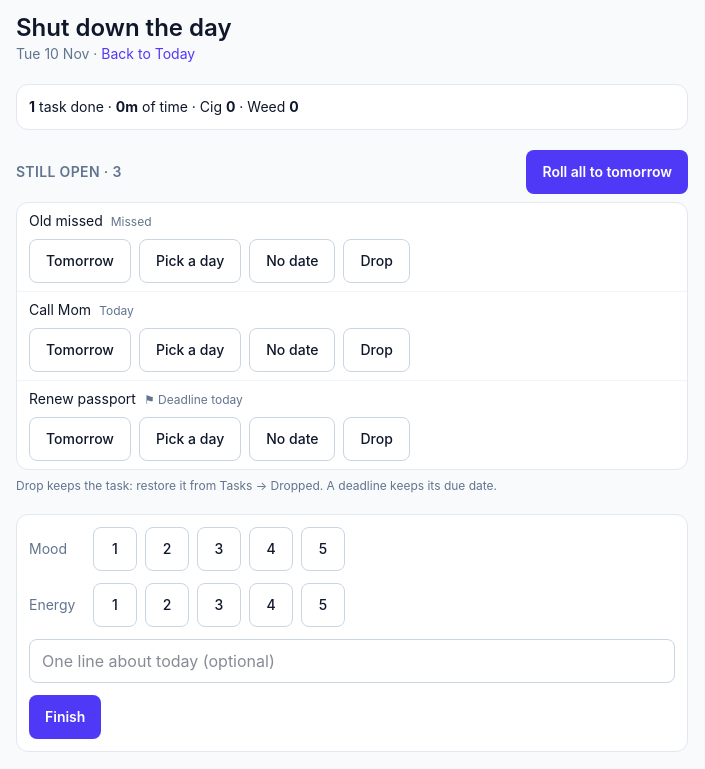
Scenario: evening shutdown › Drop sets status dropped (never removes), No date clears, Pick a day moves; a deadline refuses No date
Step 1. Click the button "Drop" below "Call Mom" → {"x": 377, "y": 350}, box [344,328,410,372]
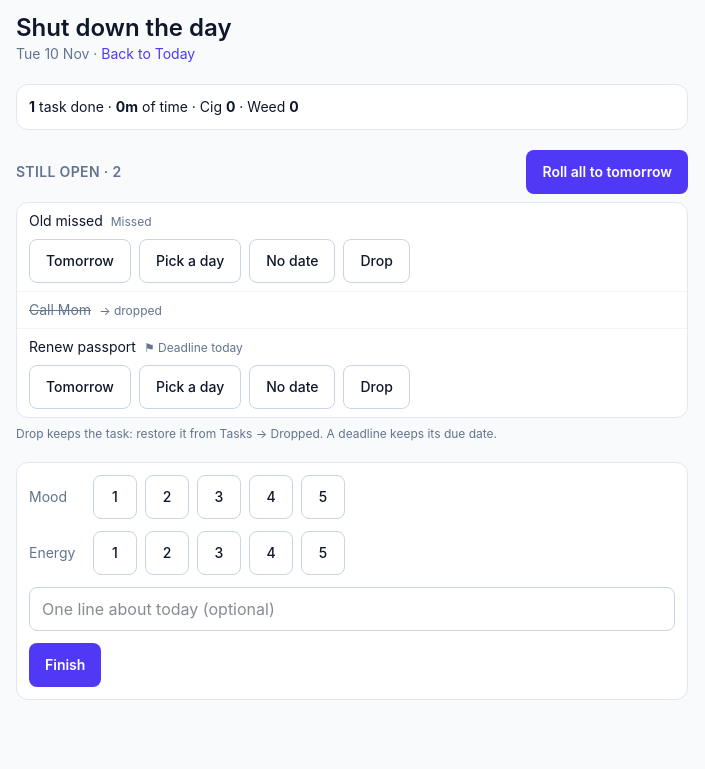
Step 2. Click the button "No date" below "Old missed" → {"x": 292, "y": 261}, box [249,239,336,283]
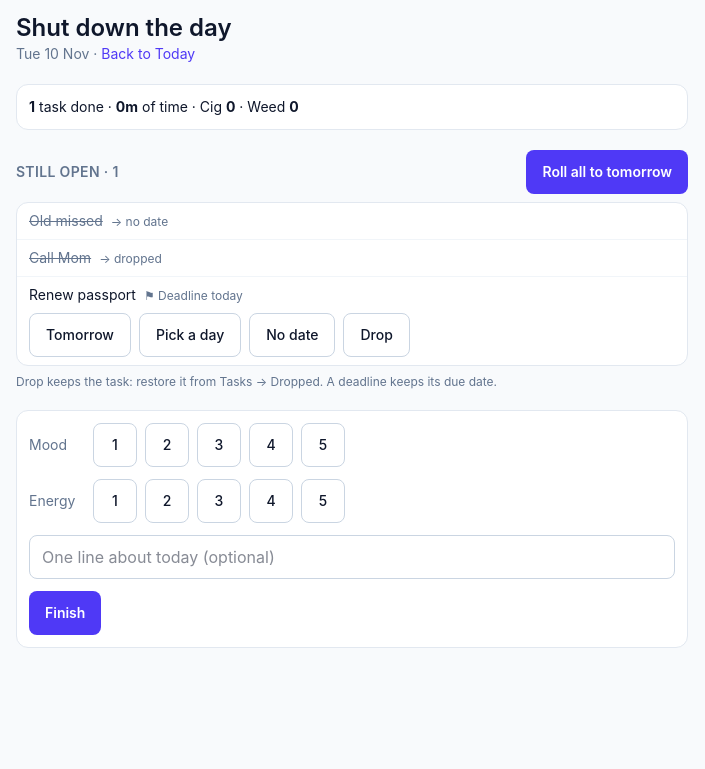
Step 3. Click the button "No date" → {"x": 292, "y": 335}, box [249,313,336,357]
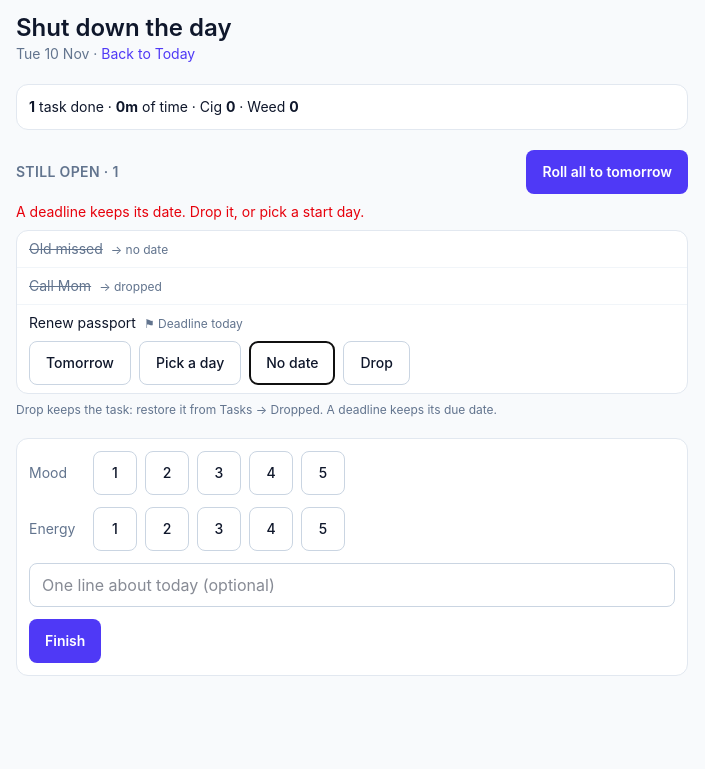
Now the message shows "keeps its date", box [16,203,364,220]
Step 4. Click the button "Pick a day" → {"x": 190, "y": 363}, box [139,341,241,385]
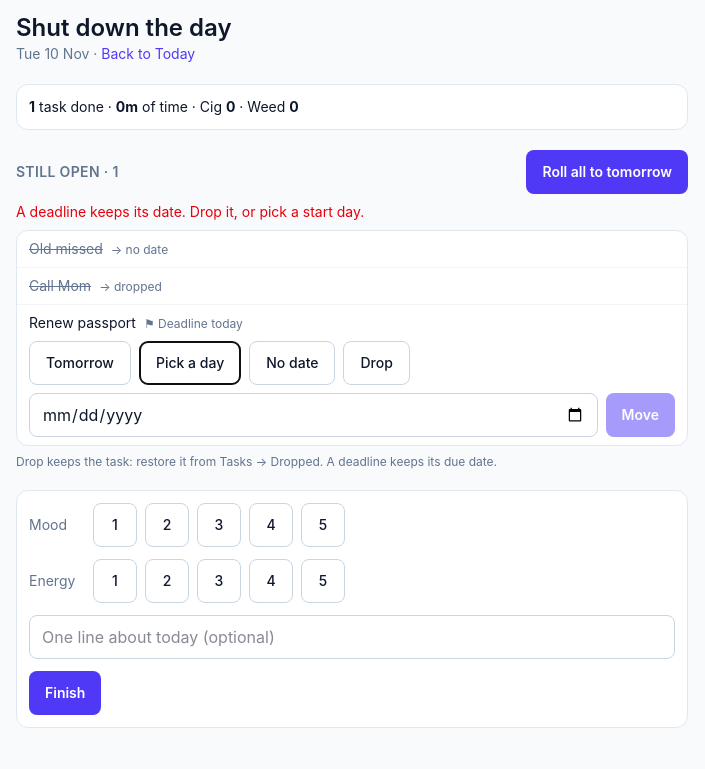
Step 5. Type "2026-11-09" into the date field named "Day for Renew passport" → {"x": 313, "y": 415}, box [29,393,598,437]
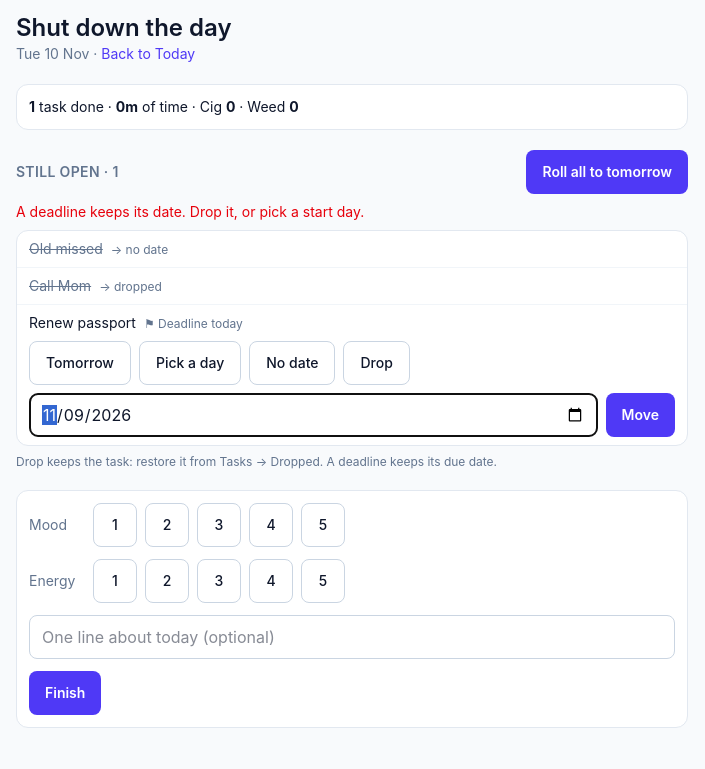
Step 6. Click the button "Move" → {"x": 640, "y": 415}, box [606,393,675,437]
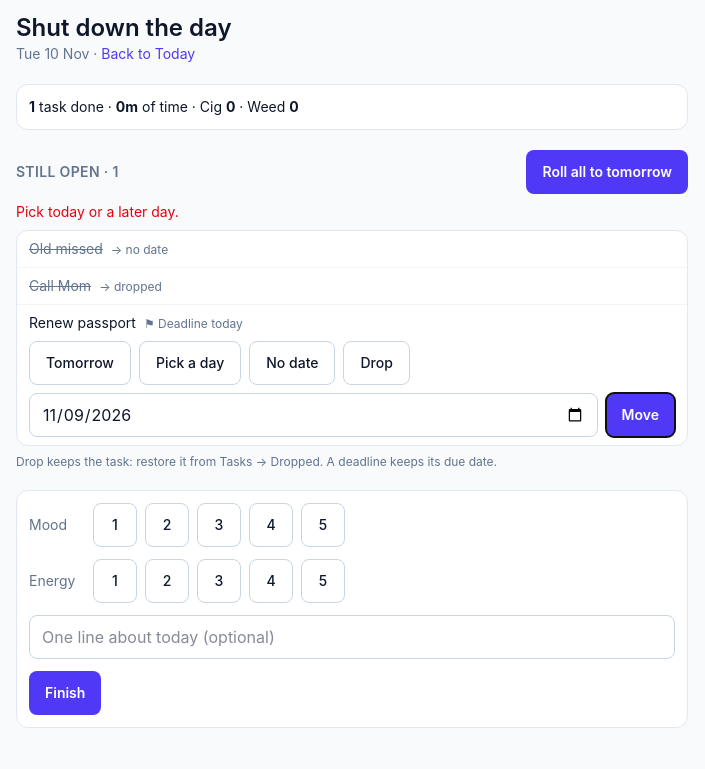
Now the message shows "later day", box [16,203,179,220]
